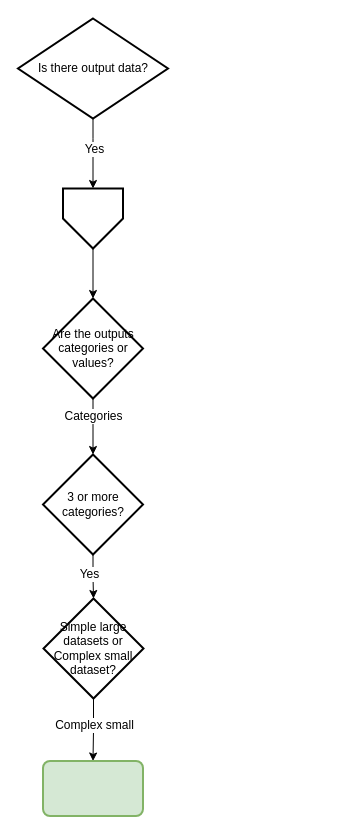
Some shapes in this 351 by 834 pixel diagram are drawn without their labels. Each missing label, with the centre of its shape:
"Multiclass Neural Network" belongs at pixel 93 788.
"Supervised Learning" belongs at pixel 93 218.
